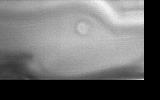cell: (16, 53, 56, 80), (61, 14, 103, 39), (68, 6, 97, 27), (70, 14, 90, 40), (73, 19, 92, 37)
